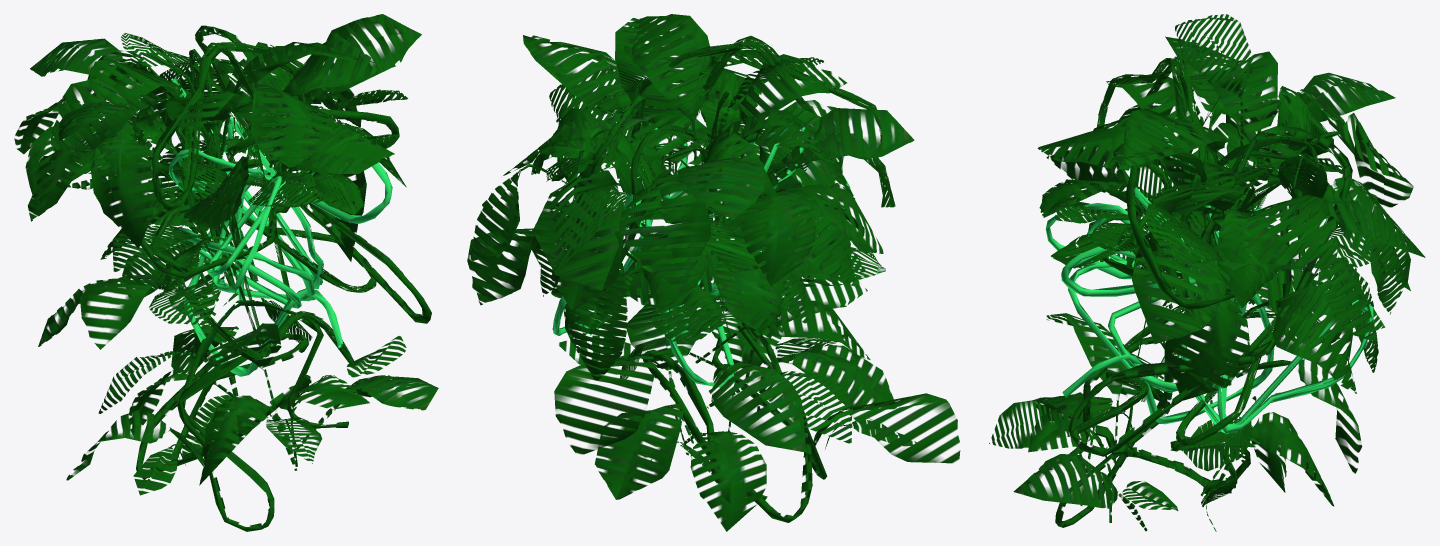
Rendered from 2worldtree.two.leaves.glb.
3 views of the same model, side by side, from view 1: azimuth 30°, elevation 25°; view 2: azimuth 150°, elevation 25°; view 3: azimuth 270°, elevation 25° (orthographic). The views are drawn at different scales.
Parts seen in each view (by area): view 1: leaf_010_mesh.005, leaf_010_mesh.106; view 2: leaf_010_mesh.005, leaf_010_mesh.106; view 3: leaf_010_mesh.005, leaf_010_mesh.106.
Boxes of the visible parts, x1=… form: leaf_010_mesh.005: x1=27, y1=14, x2=431, y2=531; leaf_010_mesh.106: x1=14, y1=33, x2=438, y2=495; leaf_010_mesh.005: x1=467, y1=14, x2=881, y2=522; leaf_010_mesh.106: x1=546, y1=54, x2=960, y2=531; leaf_010_mesh.005: x1=1037, y1=56, x2=1425, y2=527; leaf_010_mesh.106: x1=989, y1=14, x2=1413, y2=531.
Bounding box in the file's own units: 0.9117 × 1.03 × 0.8406.
Materials: 5 (4 with a texture image).
